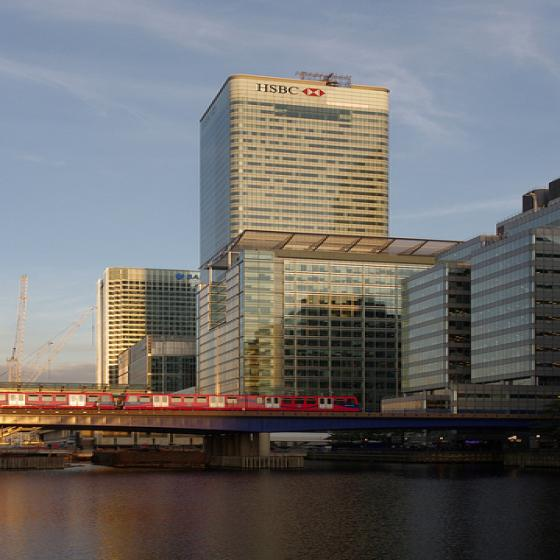train: (4, 388, 363, 411)
